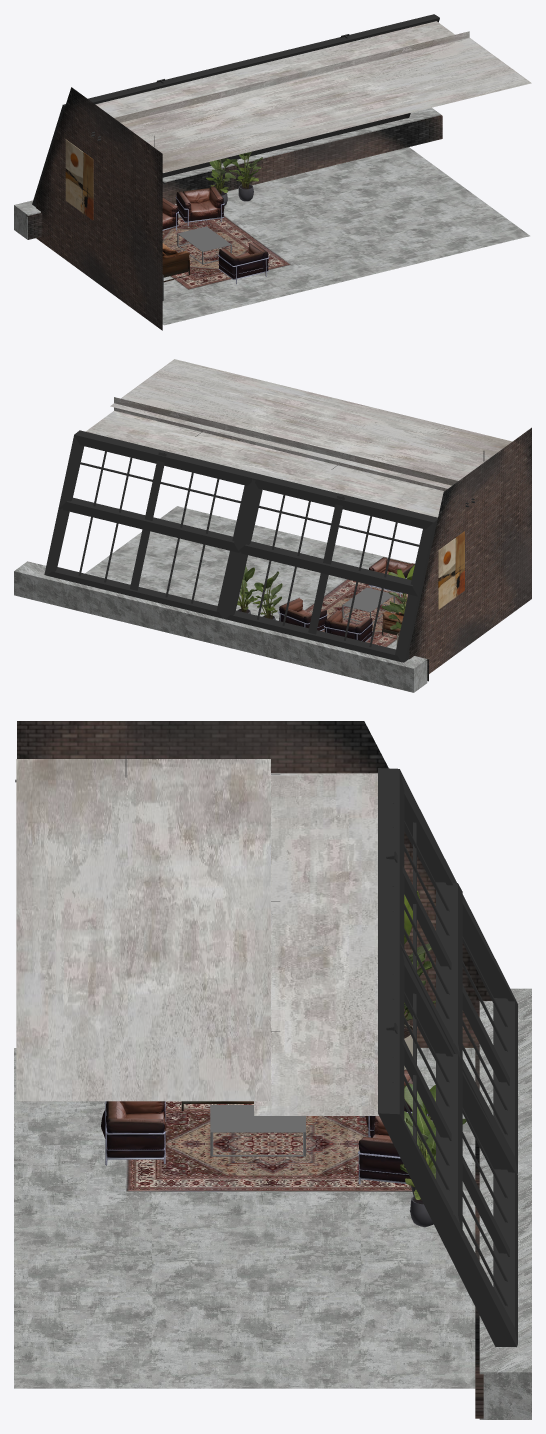
Rendered from loft.glb.
The picture shows the model from 3 angles, top to bottom: view 1: azimuth 30°, elevation 25°; view 2: azimuth 150°, elevation 25°; view 3: azimuth 270°, elevation 25°; orthographic projection. The views are drawn at different scales.
Parts seen in each view (by area): view 1: Plane, Plane.004, Plane.003, Plane.002, Cube.011, Plane.010, Plane.001, Plane.006, Cube.003, Cube.004, node_0.007_Material.007_0, node_0.004_Material.006_0 (+6 smaller); view 2: Plane.004, Plane.003, Plane.002, Plane.006, Plane.001, Plane, Cube.001, Cube.010, Plane.010, node_0.004_Material.006_0, Cube.003, node_0.006_Material.007_0 (+3 smaller); view 3: Plane, Plane.004, Plane.002, Plane.001, Plane.006, Plane.003, Plane.010, Cube.010, Cube.001, node_0.005_Material.007_0, node_0.004_Material.006_0, Cube.002 (+2 smaller).
Boxes of the visible parts, x1,y1,x2,y2 form: Plane: (162,147,529,325); Plane.004: (120,37,531,172); Plane.003: (36,87,162,330); Plane.002: (95,21,469,122); Cube.011: (233,115,442,189); Plane.010: (162,215,290,289); Plane.001: (221,14,439,163); Plane.006: (32,59,253,206); Cube.003: (65,139,93,220); Cube.004: (26,166,236,239); node_0.007_Material.007_0: (176,186,224,226); node_0.004_Material.006_0: (206,151,262,206); Plane.004: (110,359,512,488); Plane.003: (409,427,531,673); Plane.002: (86,397,458,517); Plane.006: (224,474,437,662); Plane.001: (44,430,257,618); Plane: (85,506,411,649); Cube.001: (213,617,427,692); Cube.010: (14,561,216,643); Plane.010: (305,579,407,647); node_0.004_Material.006_0: (237,565,414,645); Cube.003: (438,531,464,609); node_0.006_Material.007_0: (324,610,372,641); Plane: (14,1048,475,1388); Plane.004: (16,759,270,1101); Plane.002: (254,773,378,1115); Plane.001: (378,939,517,1346); Plane.006: (378,768,517,1173); Plane.003: (17,721,491,1047); Plane.010: (126,1101,412,1191); Cube.010: (479,1180,531,1419); Cube.001: (479,988,531,1180); node_0.005_Material.007_0: (101,1101,165,1165); node_0.004_Material.006_0: (400,891,466,1227); Cube.002: (210,1105,305,1156).
Size of the model in its own units: 10.13 by 4.14 by 5.76.
14 materials, 10 textured.
